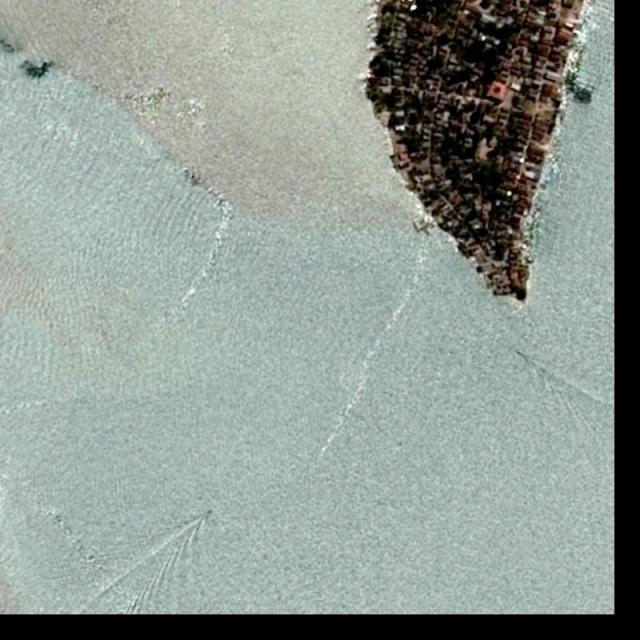ship: (207, 510, 213, 514)
